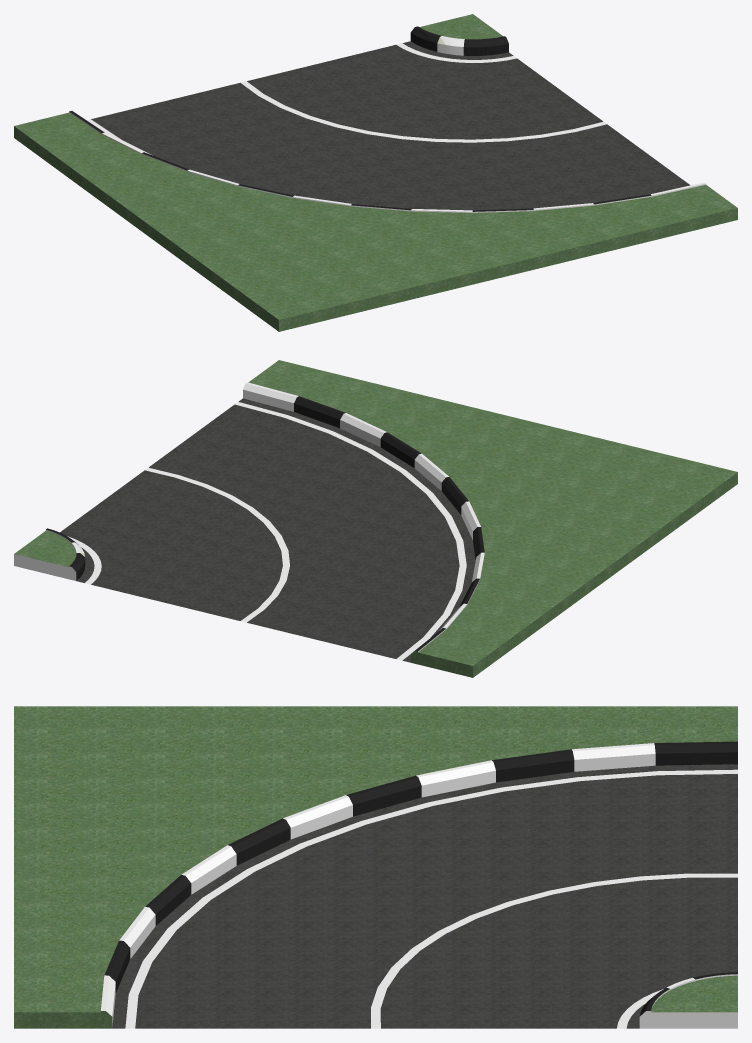
The model's file is BPJ-Road6D.dae.
3 renders of one model, top to bottom at view 1: azimuth 30°, elevation 25°; view 2: azimuth 150°, elevation 25°; view 3: azimuth 270°, elevation 25°, orthographic. The views are drawn at different scales.
Parts seen in each view (by area): view 1: Model; view 2: Model; view 3: Model.
Boxes of the visible parts, bbox=[...] form: Model: bbox=[14, 14, 737, 331]; Model: bbox=[14, 360, 737, 677]; Model: bbox=[14, 706, 737, 1028].
Size of the model in its own units: 442 by 442 by 12.
Materials: 5 (2 with a texture image).
